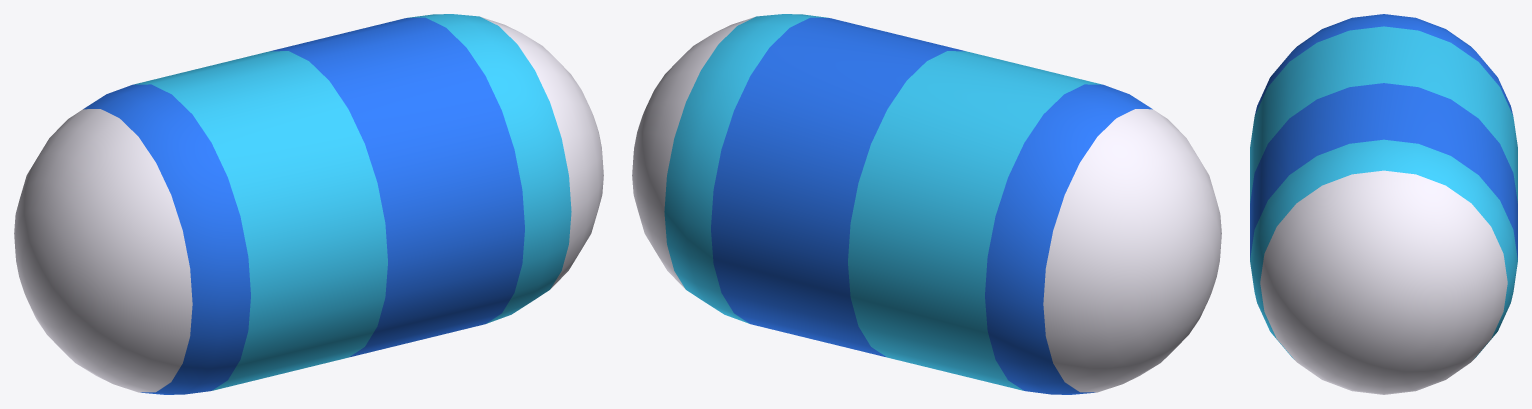
Rendered from bumper_cushion_2.glb.
3 views of the same model, side by side, from view 1: azimuth 30°, elevation 25°; view 2: azimuth 150°, elevation 25°; view 3: azimuth 270°, elevation 25° (orthographic). The views are drawn at different scales.
Parts seen in each view (by area): view 1: bumper_cushion_2; view 2: bumper_cushion_2; view 3: bumper_cushion_2.
Part boxes in pixels (x1=…): bumper_cushion_2: x1=14, y1=14, x2=603, y2=394; bumper_cushion_2: x1=632, y1=14, x2=1221, y2=394; bumper_cushion_2: x1=1250, y1=14, x2=1517, y2=394.
Bounding box in the file's own units: 2 × 1 × 1.
Materials: 1 (1 with a texture image).
